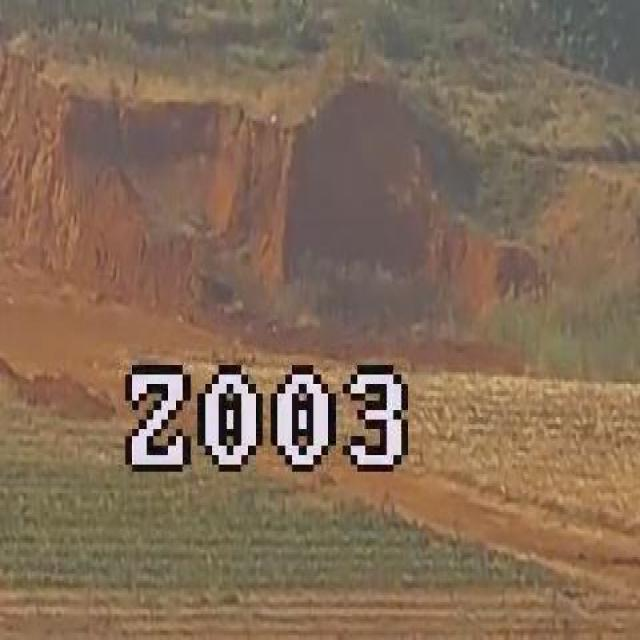other: (24, 48, 517, 363)
